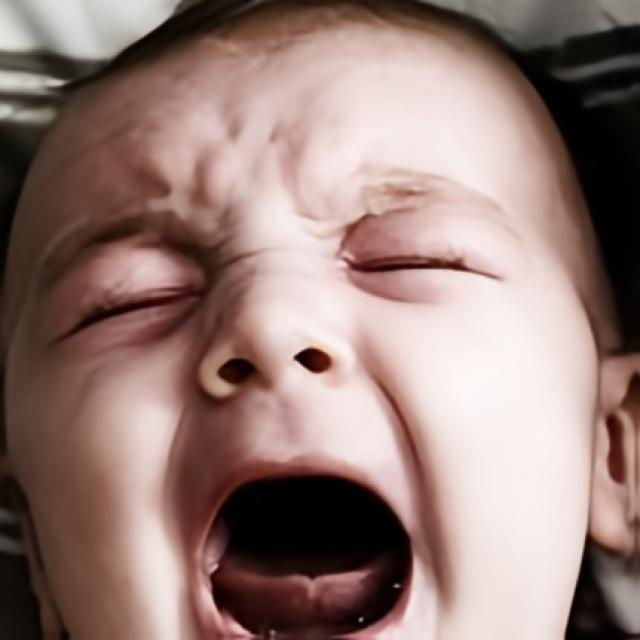sad: (11, 2, 600, 640)
